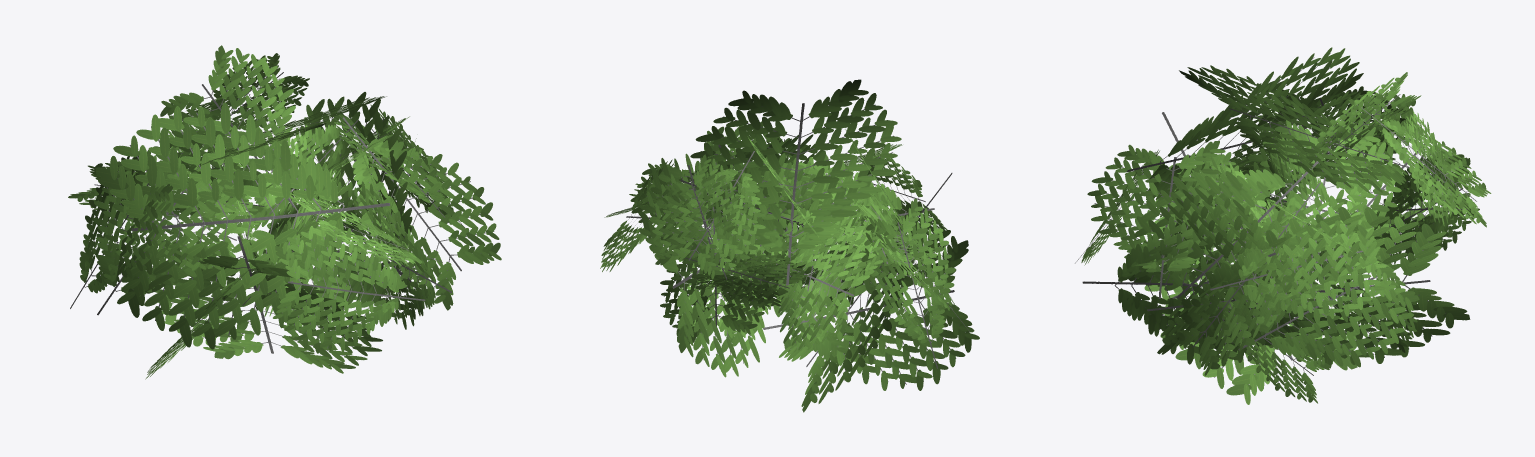
File: bush.glb
3 renders of one model, left to right at view 1: azimuth 30°, elevation 25°; view 2: azimuth 150°, elevation 25°; view 3: azimuth 270°, elevation 25°, orthographic. The views are drawn at different scales.
Visible parts, largest first — view 1: Shrub; view 2: Shrub; view 3: Shrub.
Part boxes in pixels (box(x1,y1,x2,y2)): Shrub: box(68, 45, 501, 379); Shrub: box(600, 79, 979, 412); Shrub: box(1075, 47, 1491, 404).
Bounding box in the file's own units: 2.14 × 1.65 × 1.85.
Materials: 1 (1 with a texture image).
